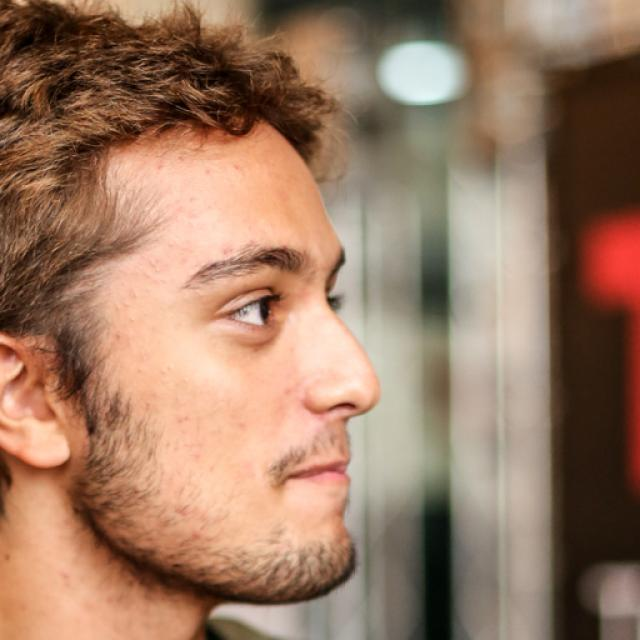neutral: (68, 115, 380, 606)
